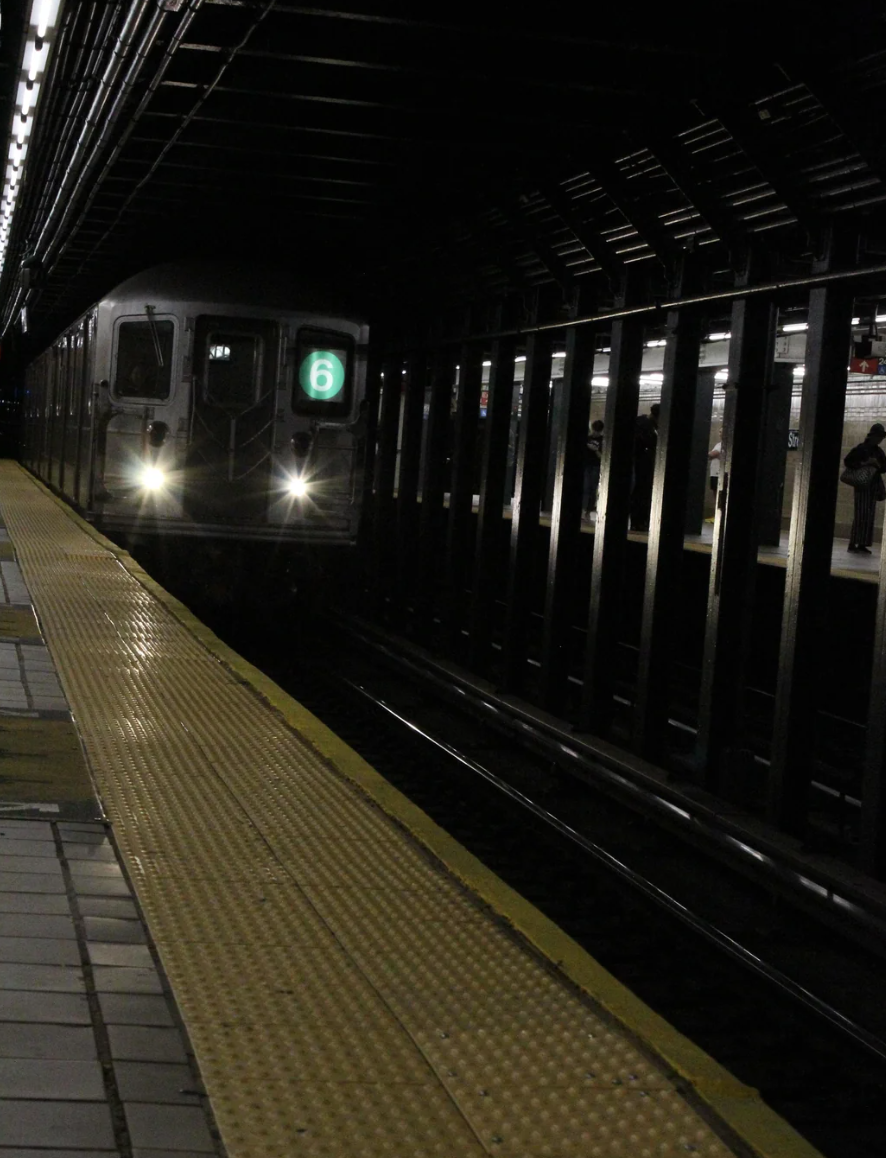train: (82, 264, 368, 542)
